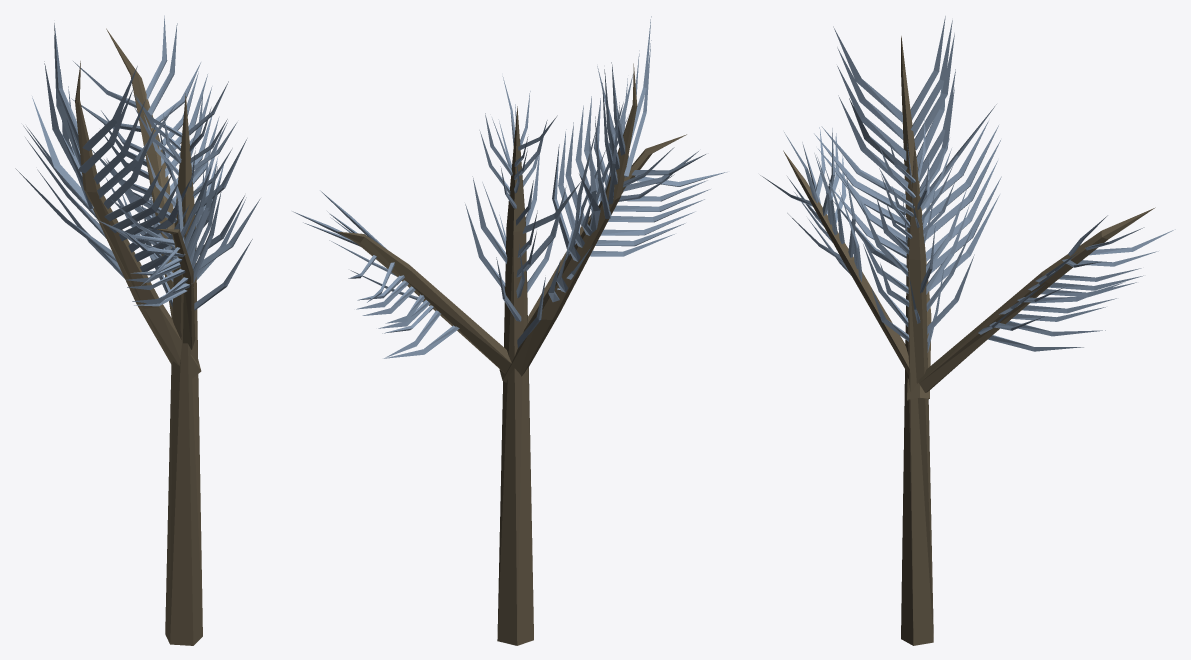
Rendered from Blue_Spruce_2_4.fbx.
3 renders of one model, left to right at view 1: azimuth 30°, elevation 25°; view 2: azimuth 150°, elevation 25°; view 3: azimuth 270°, elevation 25°, orthographic. The views are drawn at different scales.
Parts seen in each view (by area): view 1: Spurce_2_4; view 2: Spurce_2_4; view 3: Spurce_2_4.
Boxes of the visible parts, left/top/right/bottom form: Spurce_2_4: left=15, top=15, right=260, bottom=645; Spurce_2_4: left=292, top=16, right=726, bottom=645; Spurce_2_4: left=760, top=16, right=1175, bottom=645.
Size of the model in its own units: 77.64 by 178 by 117.
